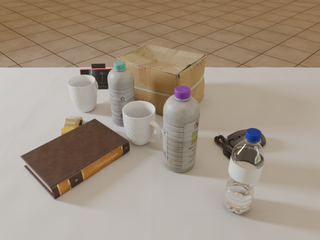book: (20, 119, 130, 199)
bottle: (223, 128, 265, 214), (163, 85, 200, 172), (108, 61, 136, 126)
box: (116, 44, 207, 115)
cup: (123, 101, 162, 145), (68, 75, 98, 112)
mouse: (214, 129, 266, 159)
phone: (80, 68, 114, 86)
toy_car: (61, 116, 83, 135)
